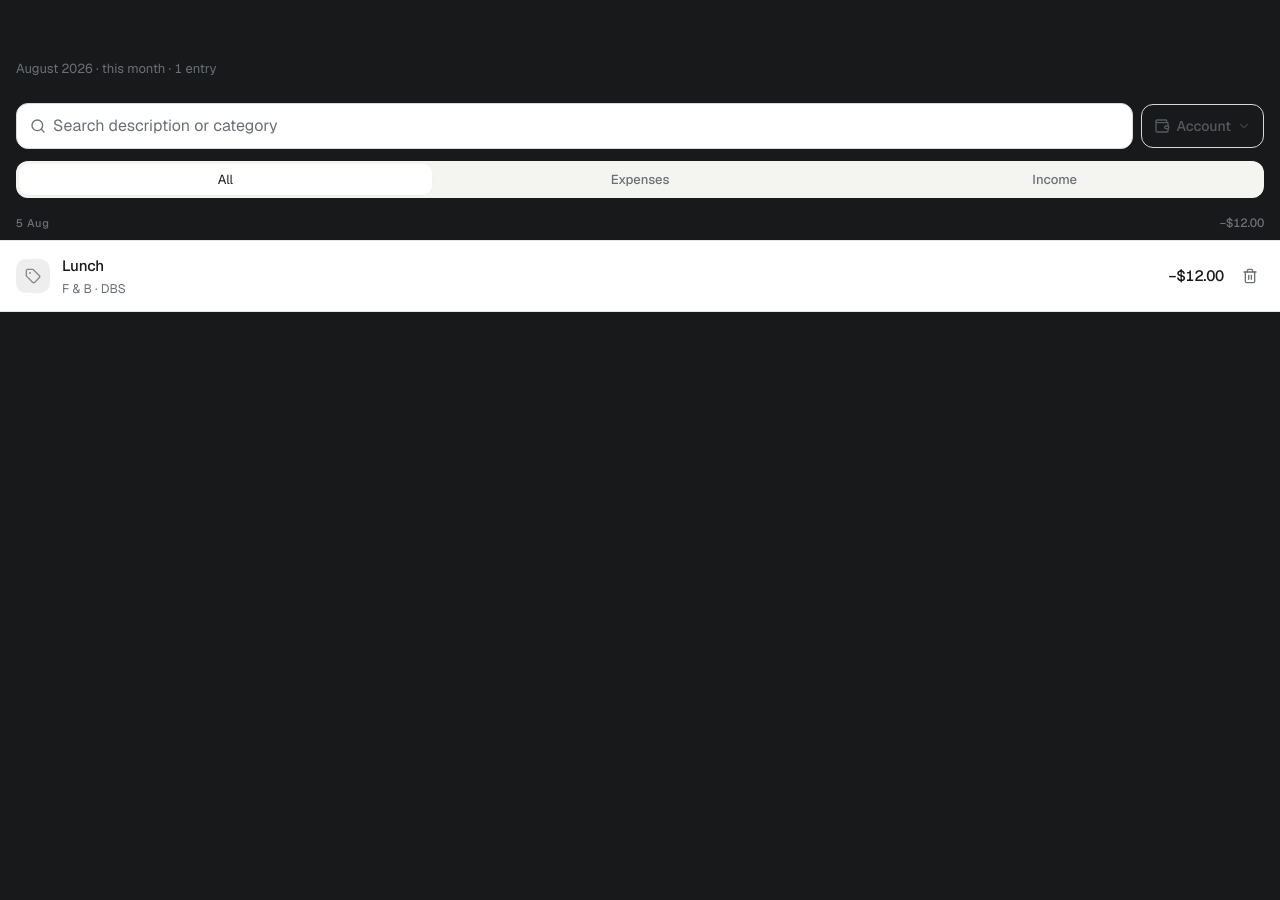
editing an entry › opens on the entry as it stands
Click the button with aria-label "Edit Lunch". click: (33, 276)
box: [16,251,1224,301]
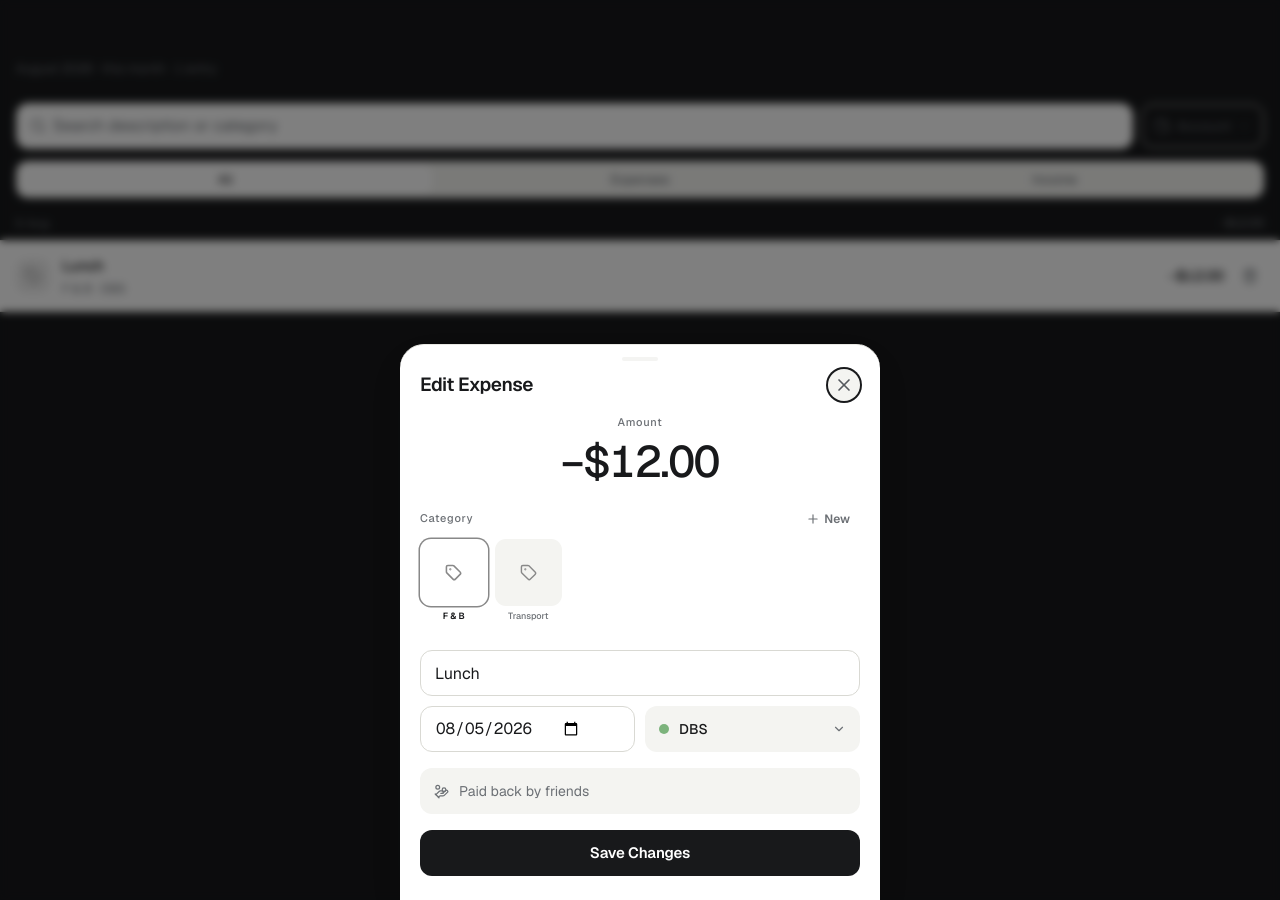
Check: the dialog "Edit Expense" is shown, box [400,344,880,899]
Check: the field named "Description" holds "Lunch", box [420,650,860,696]
Check: the button named "Amount" reads "−$12.00", box [420,434,860,490]
